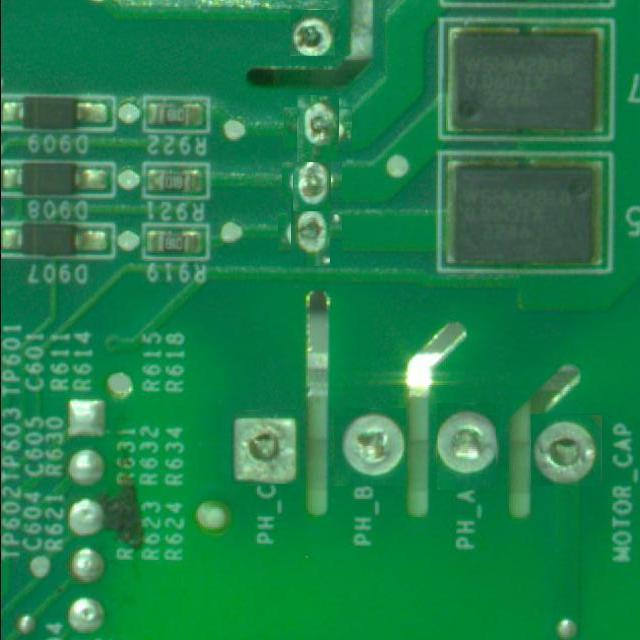lack_of_part: (334, 408, 406, 486), (530, 414, 602, 486), (230, 410, 300, 484), (437, 403, 496, 490), (291, 101, 345, 156), (284, 208, 336, 260), (287, 156, 337, 206), (290, 9, 336, 56)
